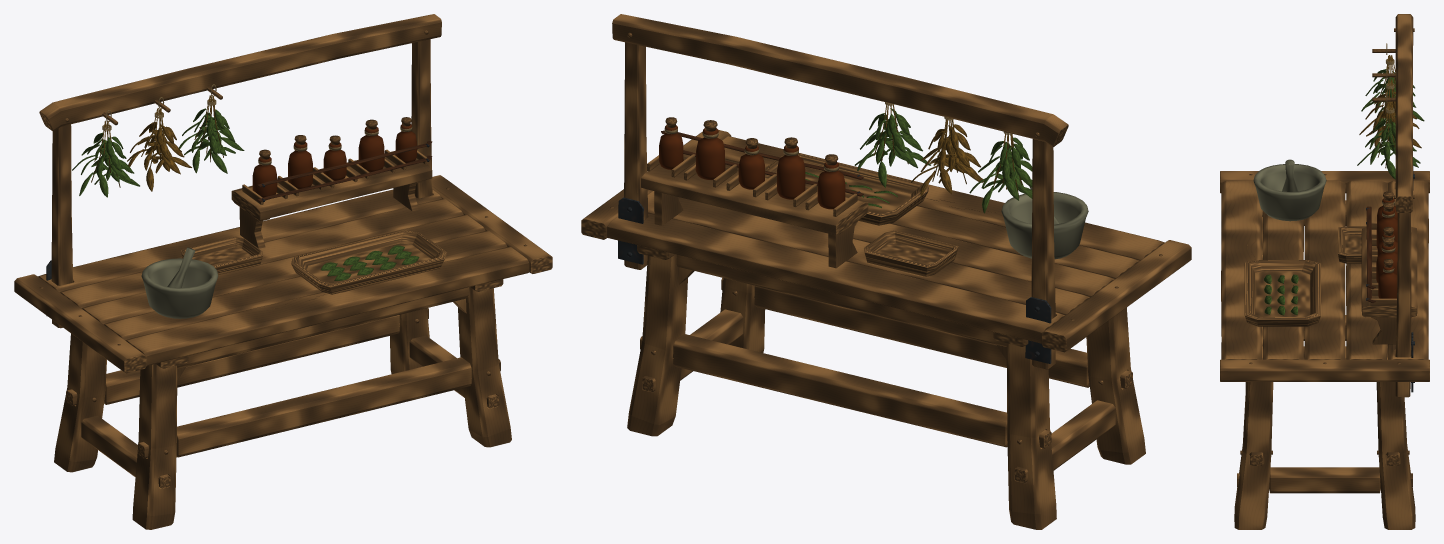
The model's file is frontier_field_apothecary_lod0.glb.
3 views of the same model, side by side, from view 1: azimuth 30°, elevation 25°; view 2: azimuth 150°, elevation 25°; view 3: azimuth 270°, elevation 25° (orthographic). The views are drawn at different scales.
Parts seen in each view (by area): view 1: frontier_field_apothecary.timber, frontier_field_apothecary.sage, frontier_field_apothecary.stoneware, frontier_field_apothecary.amber, frontier_field_apothecary.dried, frontier_field_apothecary.leather, frontier_field_apothecary.endgrain; view 2: frontier_field_apothecary.timber, frontier_field_apothecary.amber, frontier_field_apothecary.sage, frontier_field_apothecary.stoneware, frontier_field_apothecary.dried, frontier_field_apothecary.iron, frontier_field_apothecary.endgrain, frontier_field_apothecary.leather; view 3: frontier_field_apothecary.timber, frontier_field_apothecary.stoneware, frontier_field_apothecary.sage, frontier_field_apothecary.amber, frontier_field_apothecary.dried, frontier_field_apothecary.endgrain, frontier_field_apothecary.leather, frontier_field_apothecary.linen.
Part boxes in pixels (x1,y1,x2,y2): frontier_field_apothecary.timber: [14, 14, 552, 529]; frontier_field_apothecary.sage: [72, 108, 419, 280]; frontier_field_apothecary.stoneware: [141, 247, 218, 318]; frontier_field_apothecary.amber: [252, 124, 416, 197]; frontier_field_apothecary.dried: [91, 95, 223, 191]; frontier_field_apothecary.leather: [257, 141, 432, 201]; frontier_field_apothecary.endgrain: [39, 30, 527, 454]; frontier_field_apothecary.timber: [581, 14, 1191, 529]; frontier_field_apothecary.amber: [659, 125, 845, 209]; frontier_field_apothecary.sage: [805, 108, 1032, 213]; frontier_field_apothecary.stoneware: [1001, 186, 1088, 259]; frontier_field_apothecary.dried: [873, 105, 1022, 197]; frontier_field_apothecary.iron: [618, 174, 1051, 363]; frontier_field_apothecary.endgrain: [610, 32, 1162, 444]; frontier_field_apothecary.leather: [661, 130, 863, 196]; frontier_field_apothecary.timber: [1220, 14, 1429, 529]; frontier_field_apothecary.stoneware: [1253, 159, 1326, 221]; frontier_field_apothecary.sage: [1264, 69, 1424, 315]; frontier_field_apothecary.amber: [1376, 198, 1397, 298]; frontier_field_apothecary.dried: [1359, 55, 1421, 168]; frontier_field_apothecary.endgrain: [1240, 28, 1414, 454]; frontier_field_apothecary.leather: [1366, 206, 1375, 302]; frontier_field_apothecary.linen: [1381, 43, 1395, 272].
Size of the model in its own units: 2.29 by 1.85 by 1.02.
9 materials, 9 textured.
